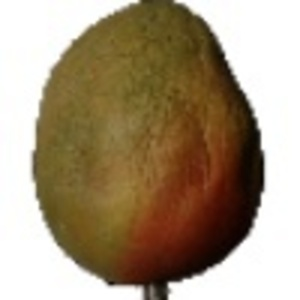mamão: (21, 1, 270, 286)
